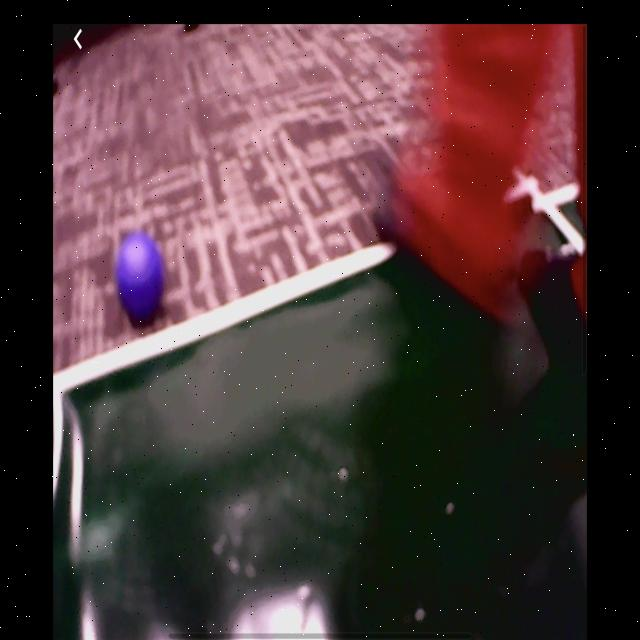ball: (116, 235, 163, 315)
